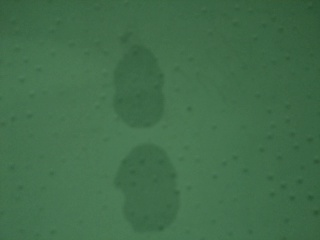Water_detected: (116, 62, 165, 202)
